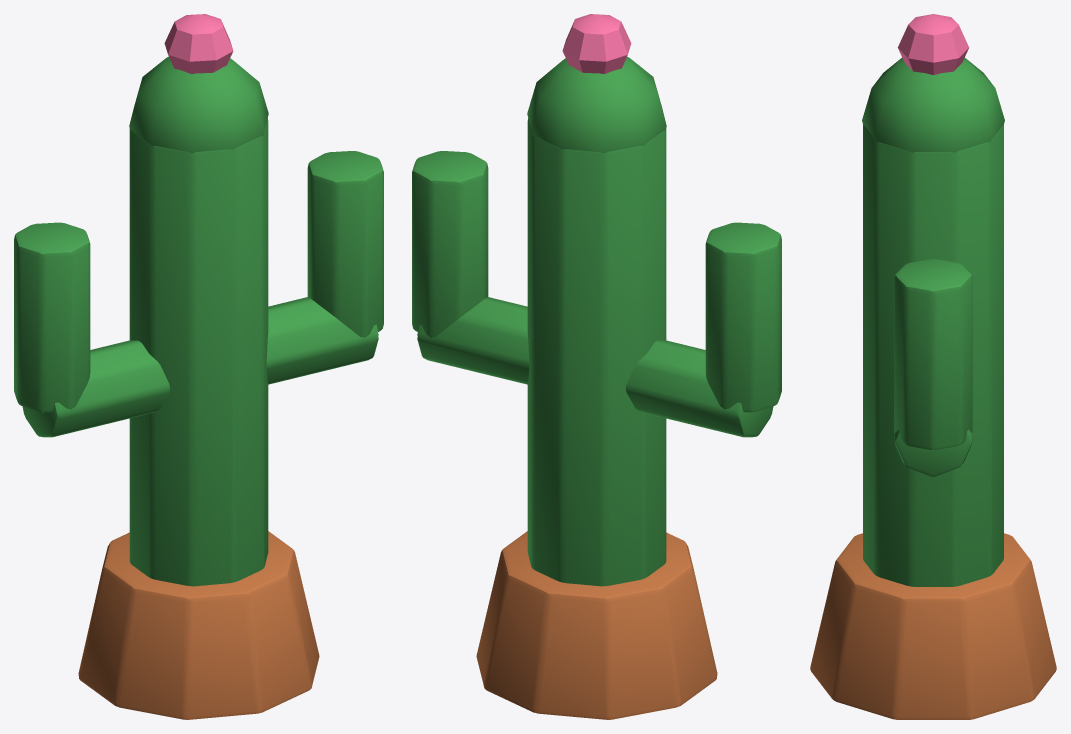
The model's file is DecoCactus.fbx.
3 views of the same model, side by side, from view 1: azimuth 30°, elevation 25°; view 2: azimuth 150°, elevation 25°; view 3: azimuth 270°, elevation 25° (orthographic).
Parts seen in each view (by area): view 1: DecoCactus; view 2: DecoCactus; view 3: DecoCactus.
Boxes of the visible parts, <box> form: DecoCactus: <box>14,14,383,719</box>; DecoCactus: <box>412,14,781,719</box>; DecoCactus: <box>810,14,1056,719</box>.
Bounding box in the file's own units: 234 × 405 × 138.
